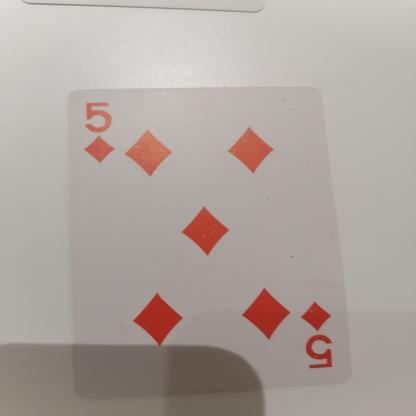5D: (294, 294, 346, 372), (75, 96, 124, 174)
